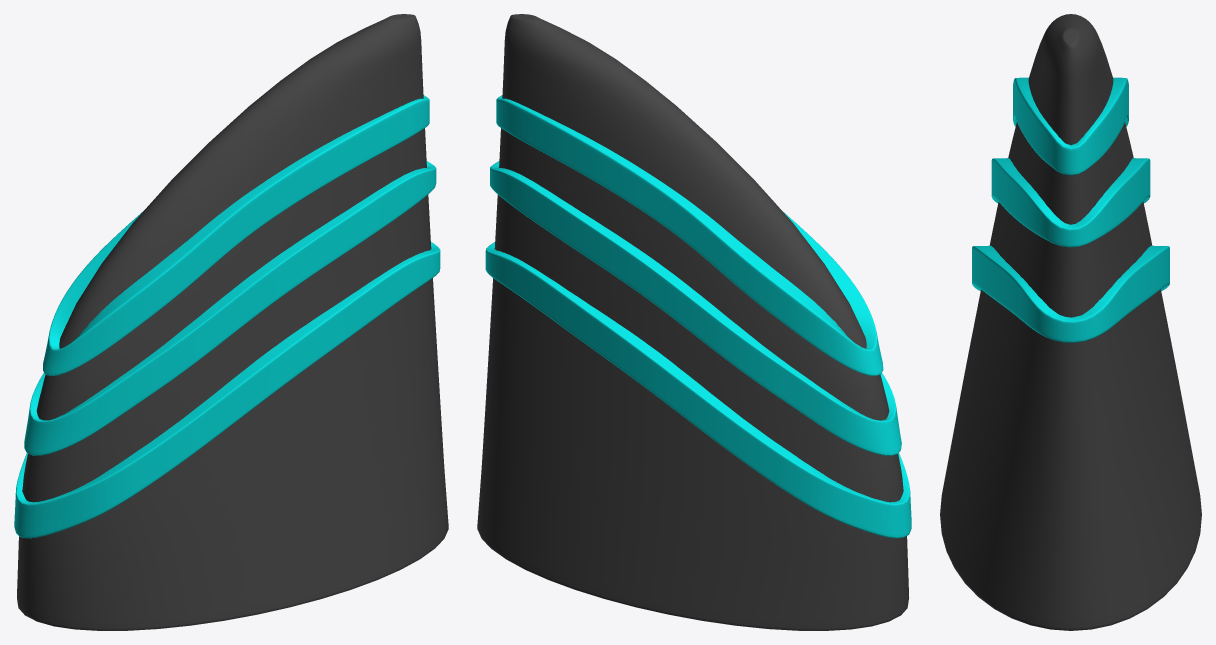
The model's file is building7.fbx.
3 views of the same model, side by side, from view 1: azimuth 30°, elevation 25°; view 2: azimuth 150°, elevation 25°; view 3: azimuth 270°, elevation 25° (orthographic). The views are drawn at different scales.
Visible parts, largest first — view 1: building7; view 2: building7; view 3: building7.
Part boxes in pixels (<box>): building7: <box>14,14,448,630</box>; building7: <box>477,14,911,630</box>; building7: <box>940,14,1201,630</box>.
Bounding box in the file's own units: 17.84 × 20.5 × 8.46.
